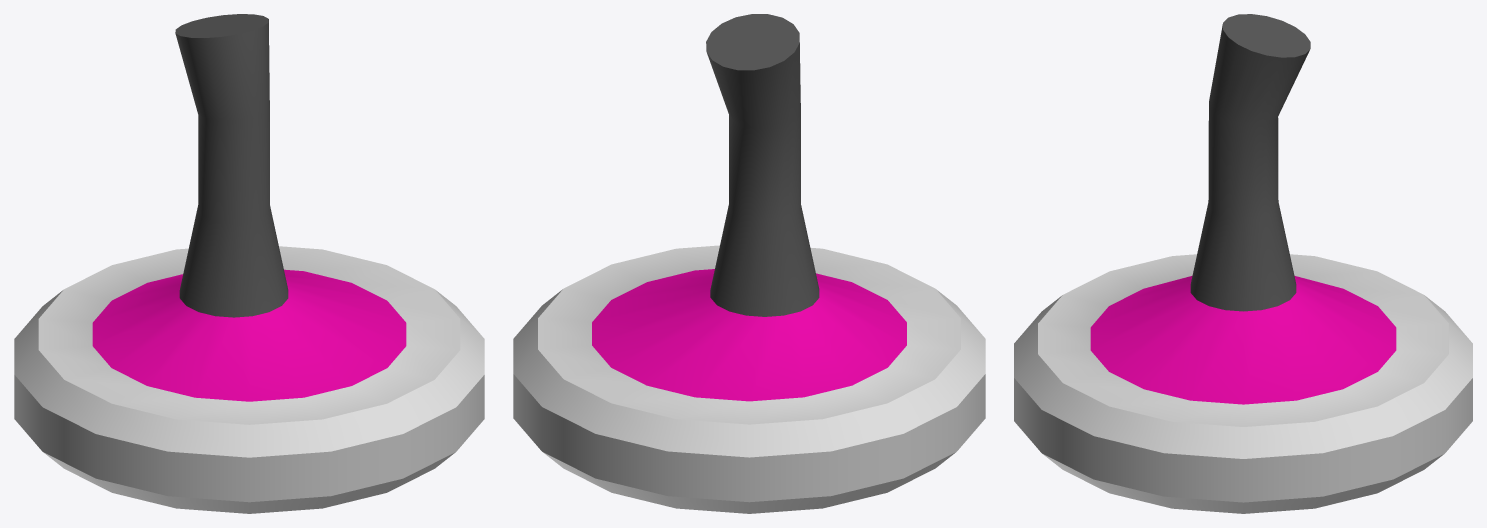
Rendered from iceStock.fbx.
3 renders of one model, left to right at view 1: azimuth 30°, elevation 25°; view 2: azimuth 150°, elevation 25°; view 3: azimuth 270°, elevation 25°, orthographic. The views are drawn at different scales.
Visible parts, largest first — view 1: iceStock; view 2: iceStock; view 3: iceStock.
Boxes of the visible parts, x1=… form: iceStock: x1=14, y1=14, x2=484, y2=513; iceStock: x1=513, y1=14, x2=985, y2=513; iceStock: x1=1014, y1=14, x2=1472, y2=513.
Size of the model in its own units: 1.6 by 1.49 by 1.58.
